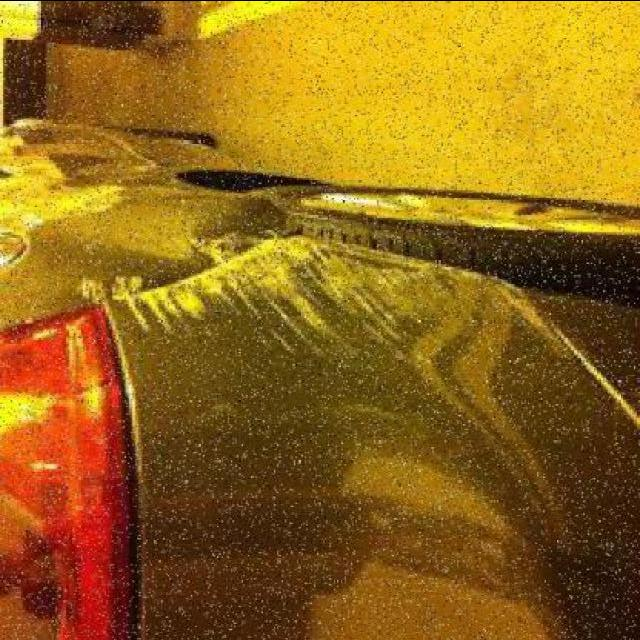rear-bumper-dent: (63, 195, 637, 638)
